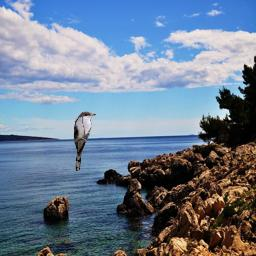Cuckoo: (73, 111, 96, 171)
